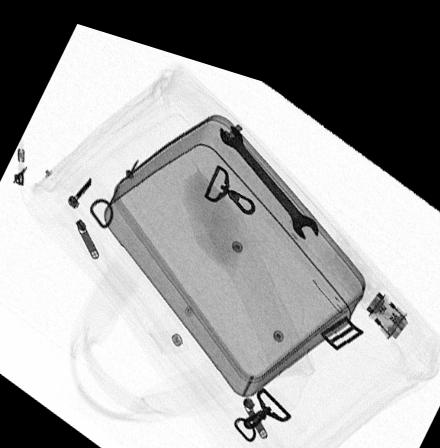Wrench: (217, 107, 317, 221)
